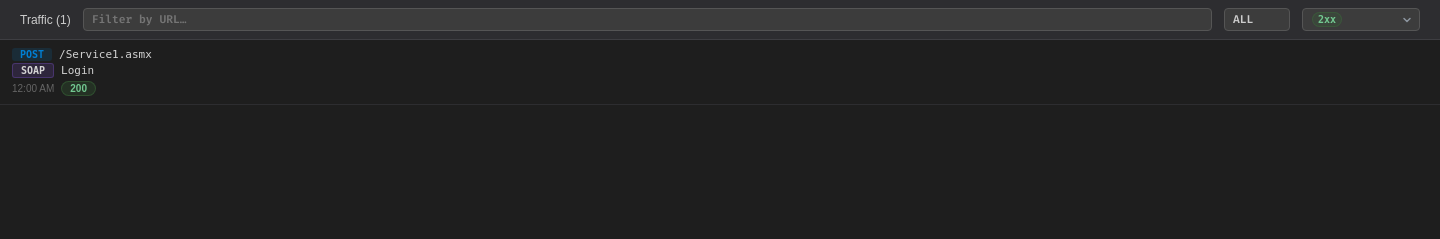
Test case: TrafficViewer right-click "Add to" › matches a skeleton-shaped project without a detail load
Step 1. Right-click the element titled "http://svc/Service1.asmx" → (720,72), box 0,40 -> 1439,105
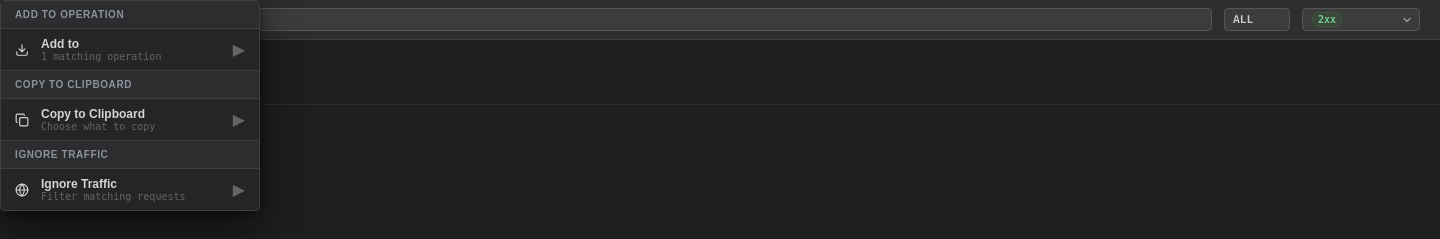
Step 2. Hover over the text "Add to" → (60,44), box 41,37 -> 79,51
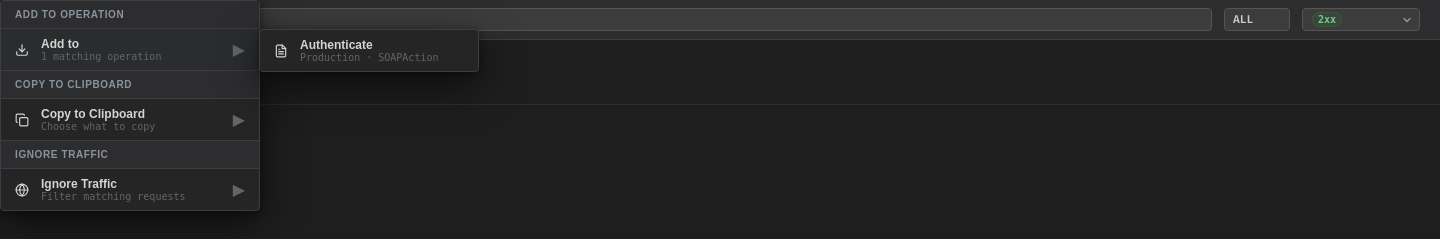
Check: the text "Production · SOAPAction" is shown, box 300,52 -> 438,63
